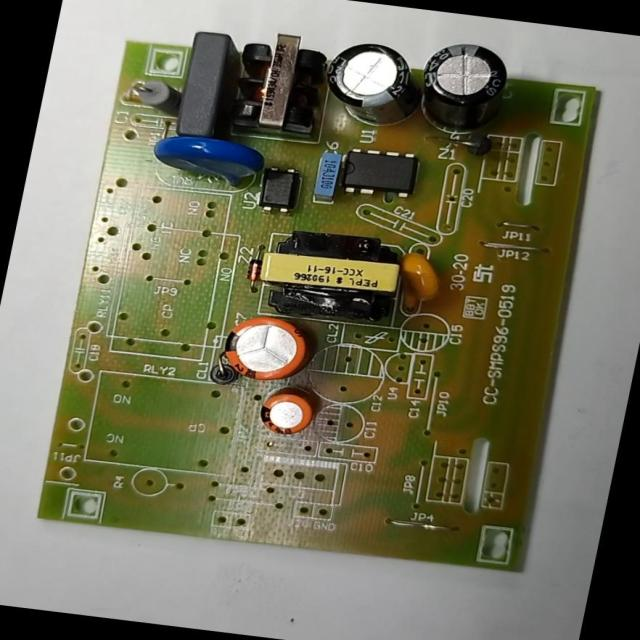Cap1: (215, 306, 318, 391)
Cap2: (253, 382, 320, 440)
Cap3: (313, 33, 429, 131)
Cap4: (412, 36, 514, 136)
MOSFET: (335, 140, 425, 204)
Mov: (139, 127, 268, 196)
Resistor: (124, 74, 184, 120)
Transformer: (245, 220, 412, 328), (223, 20, 336, 138)
